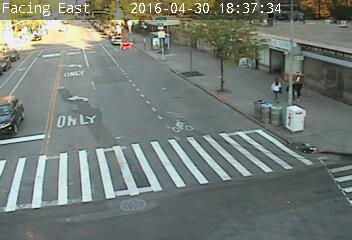neg: (134, 92, 150, 112), (144, 34, 159, 53), (197, 42, 211, 61), (7, 93, 20, 110)
pos: (286, 69, 310, 101), (267, 75, 287, 102)
